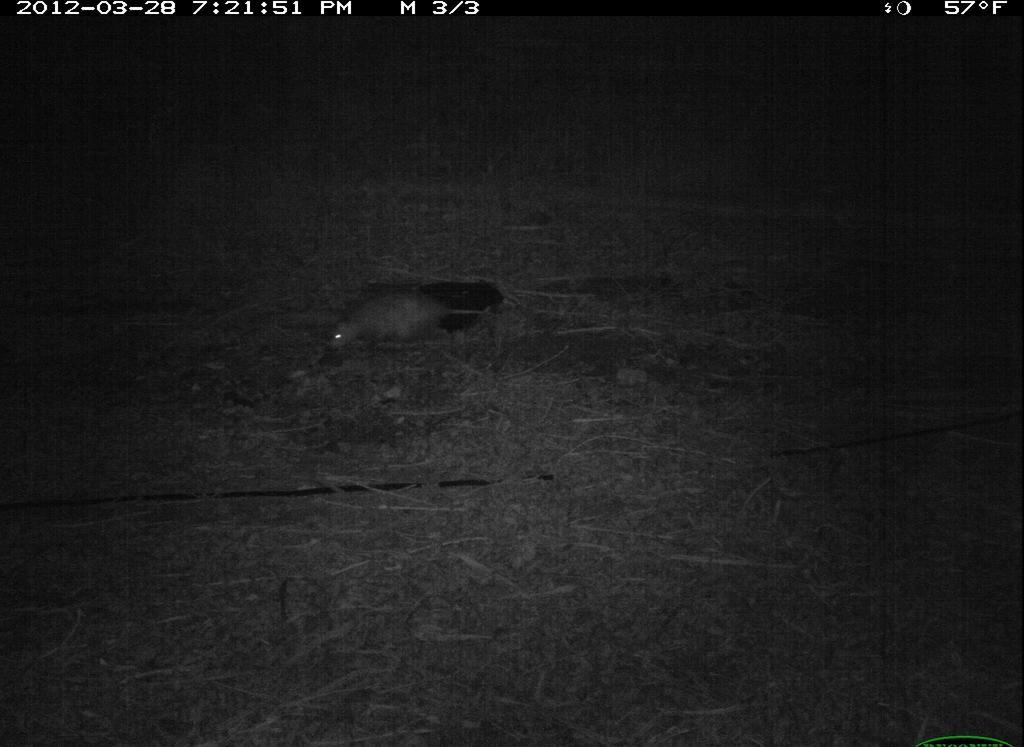opossum: (312, 285, 511, 372)
